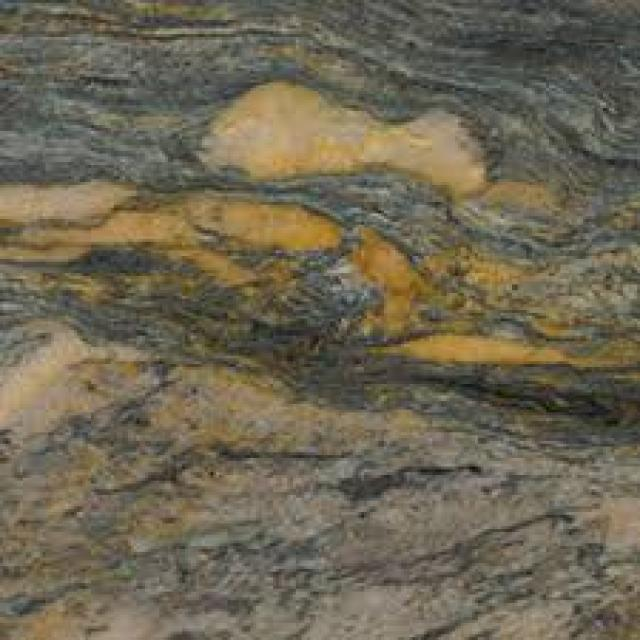Metamorphic: (14, 3, 637, 631)
